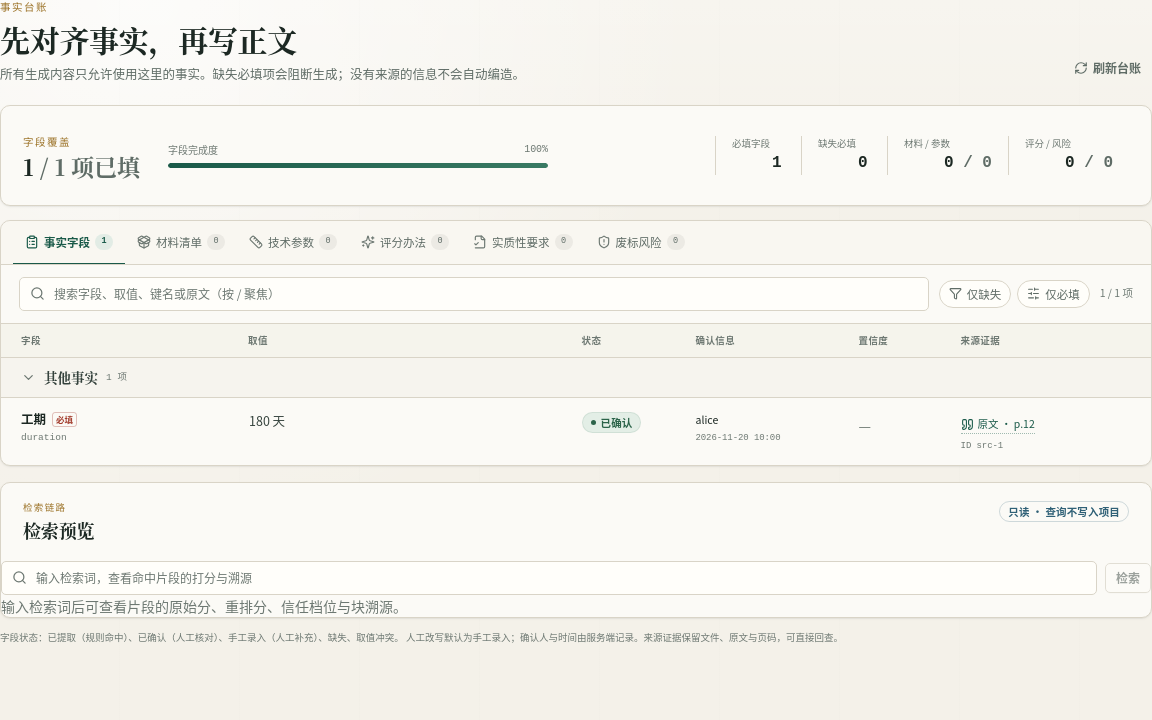
it: LedgerTab 事实治理 › 只有服务端返回陈旧引用时才显示真实的待复核告警
expect the text "工期" is shown: met, box left=21, top=410, right=46, bottom=428
Step 1. Click the button "180 天" → (267, 421), box left=242, top=407, right=574, bottom=436
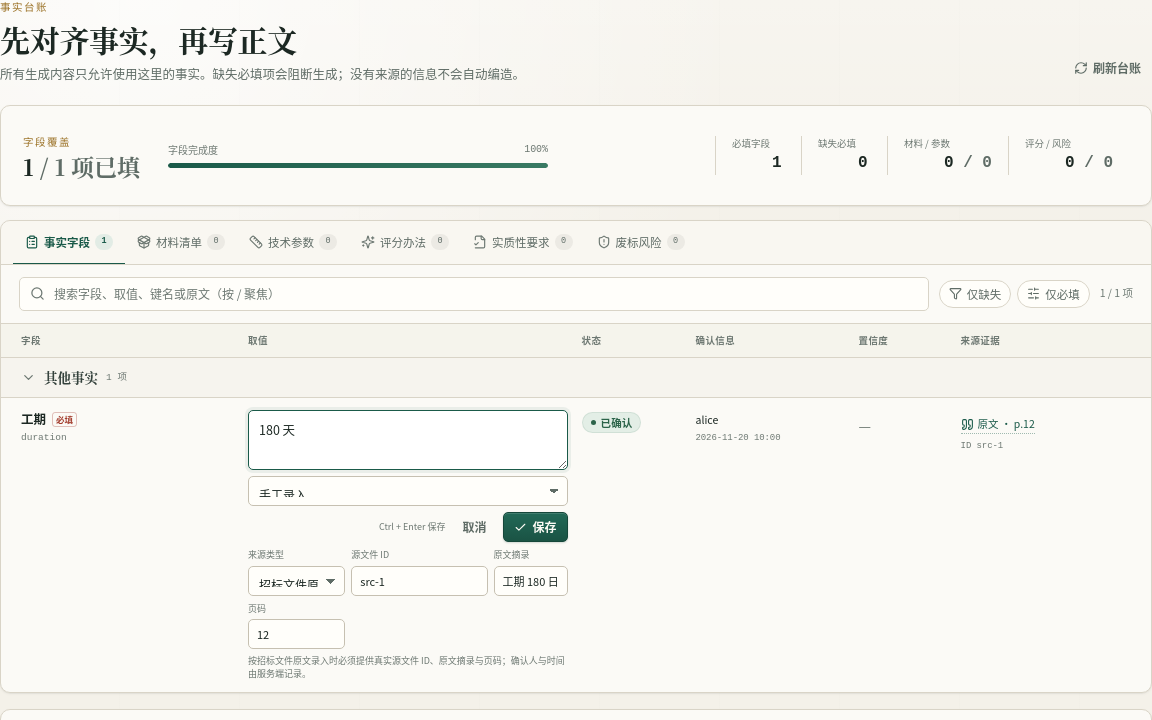
Step 2. Click the button "保存" → (536, 527), box left=504, top=512, right=568, bottom=542
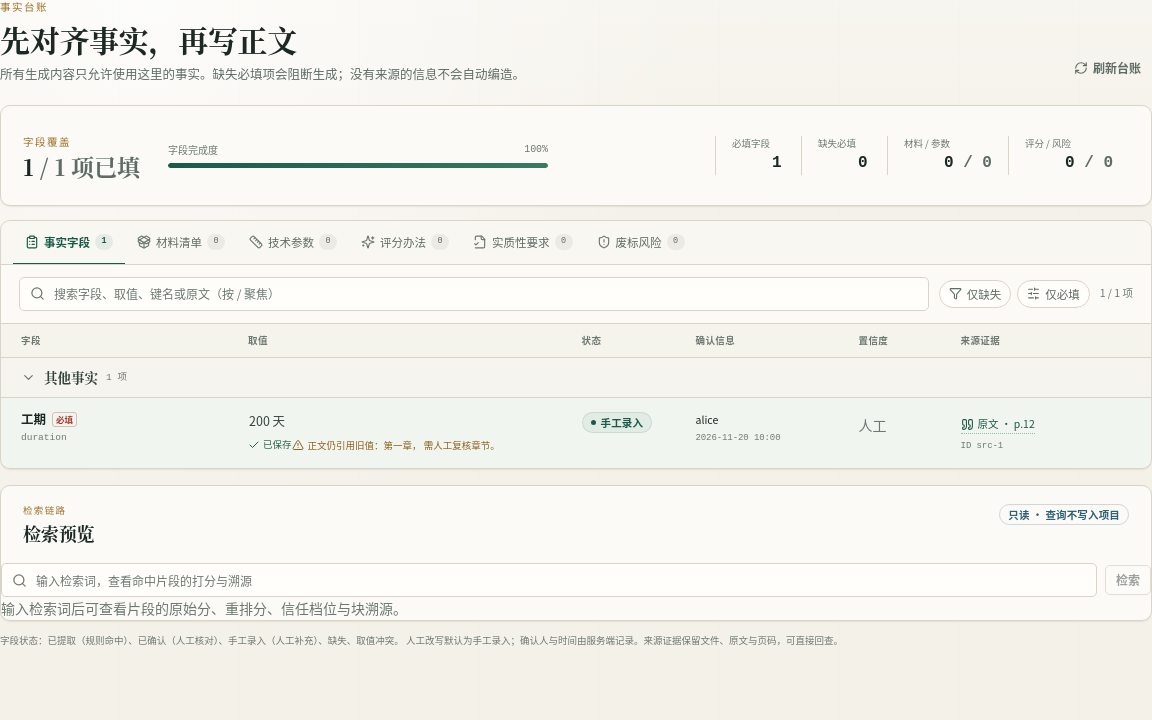
expect the message shows "第一章": met, box left=384, top=438, right=412, bottom=452
